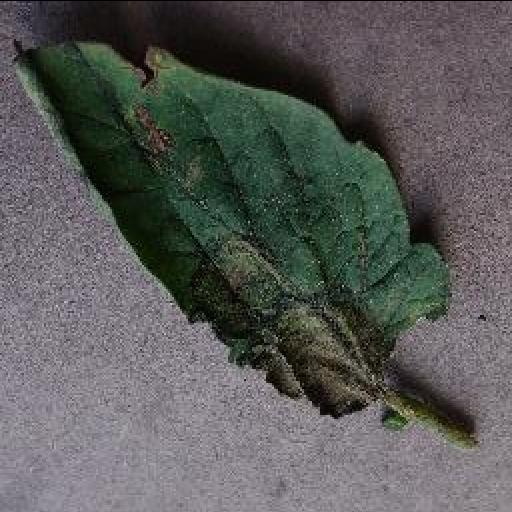disease_tomato: (10, 35, 452, 413)
